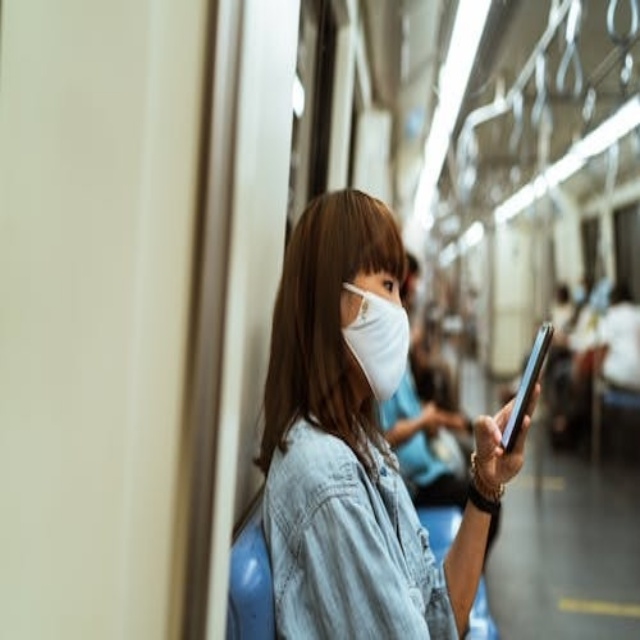Mascara: (335, 275, 416, 398)
Sin_gafas: (361, 269, 408, 311)
Sin_guantes: (470, 383, 537, 498)
